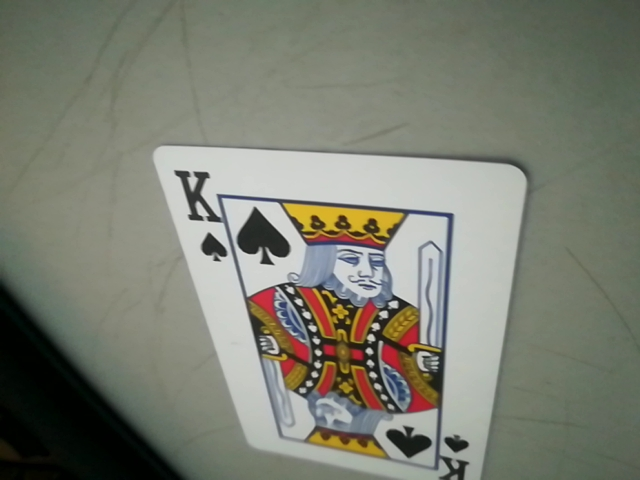ht k: (170, 158, 239, 269), (411, 429, 471, 477)
